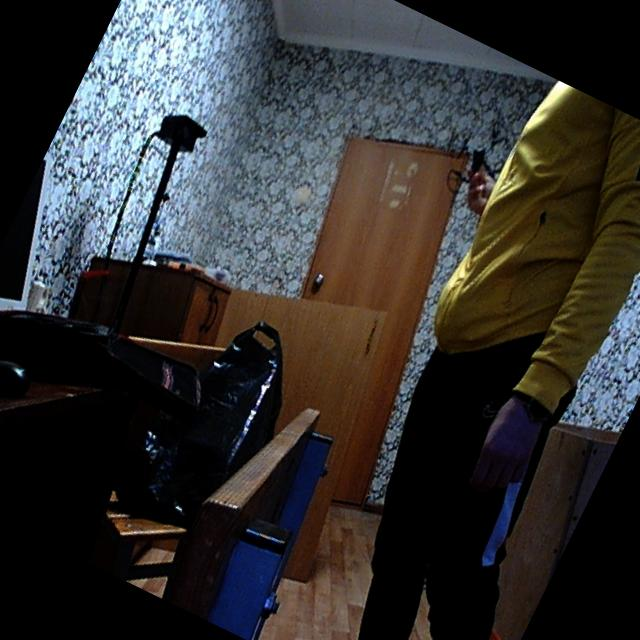drone: (428, 124, 515, 220)
